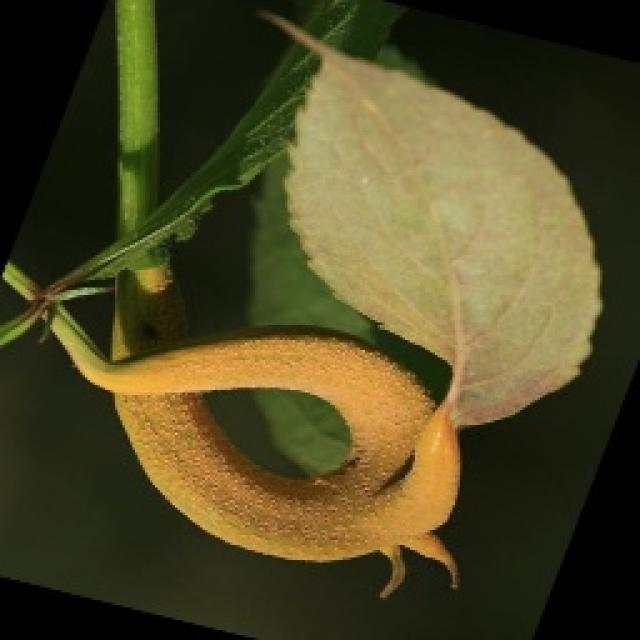Elderberry_rust: (97, 322, 465, 598)
